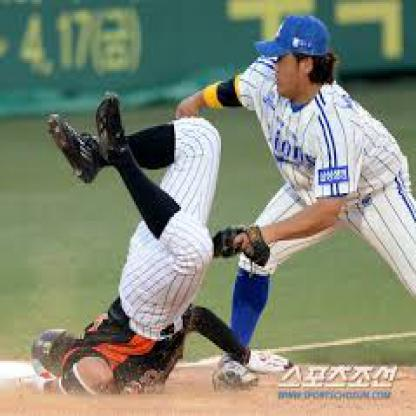Fall_Down: (12, 93, 297, 404)
